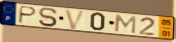0: (90, 12, 107, 32)
2: (139, 17, 157, 37)
M: (113, 14, 138, 35)
P: (17, 5, 39, 25)
S: (37, 7, 59, 28)
V: (64, 8, 87, 30)
